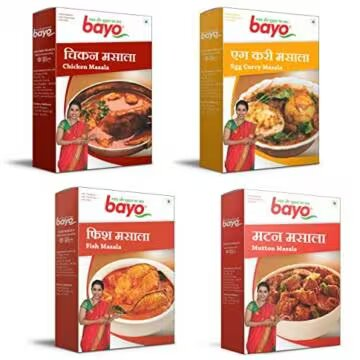non_veg: (64, 214, 77, 227)
